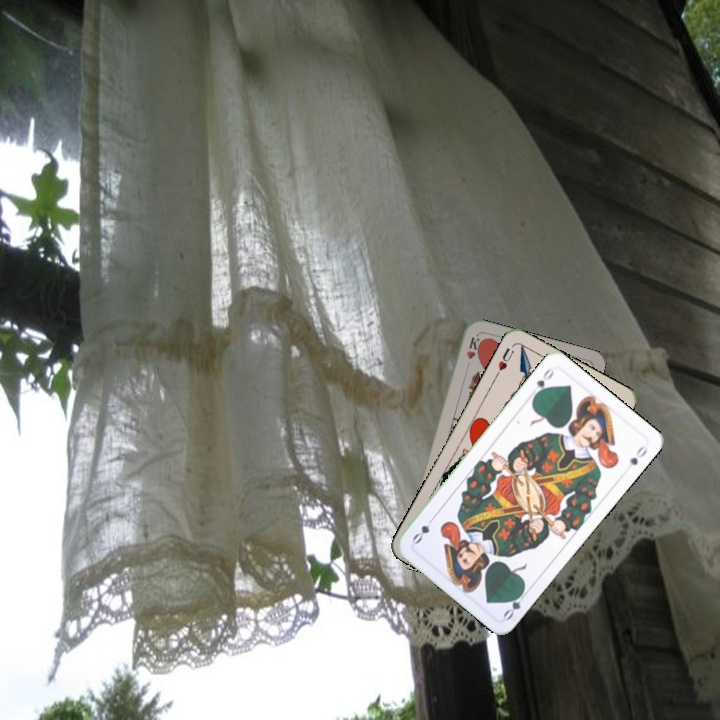GO: (499, 585, 531, 623), (529, 364, 556, 400)
HK: (462, 333, 483, 373)
HU: (492, 344, 517, 379)
